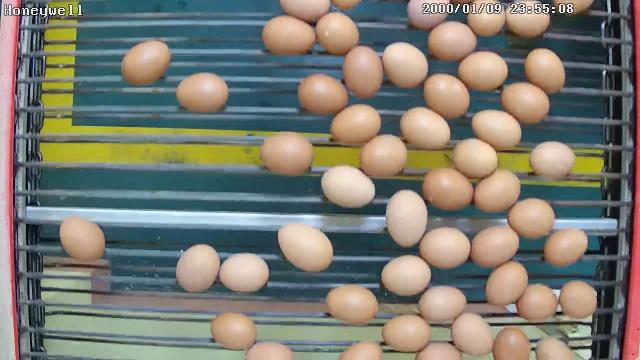egg: (276, 222, 335, 274), (258, 128, 317, 178), (384, 188, 430, 249), (118, 38, 172, 87), (324, 282, 381, 328), (173, 70, 231, 115), (358, 131, 410, 181), (398, 105, 452, 153), (320, 164, 376, 210), (380, 40, 430, 90), (472, 165, 522, 215), (422, 70, 471, 121), (422, 165, 474, 213), (469, 222, 521, 270), (260, 14, 318, 57), (498, 80, 552, 126), (296, 72, 350, 118), (418, 225, 472, 271), (328, 103, 383, 148), (174, 242, 220, 295), (58, 214, 107, 263), (456, 47, 508, 93), (216, 252, 272, 294), (527, 138, 578, 184), (470, 108, 523, 152), (506, 195, 556, 241), (342, 46, 384, 100), (483, 258, 529, 307), (426, 19, 478, 62), (380, 253, 432, 296), (314, 10, 361, 57), (523, 46, 567, 96), (450, 136, 500, 180), (417, 283, 468, 326), (450, 310, 496, 357), (542, 224, 590, 268), (382, 312, 432, 354), (208, 311, 258, 352), (514, 281, 560, 325), (558, 278, 598, 322)
